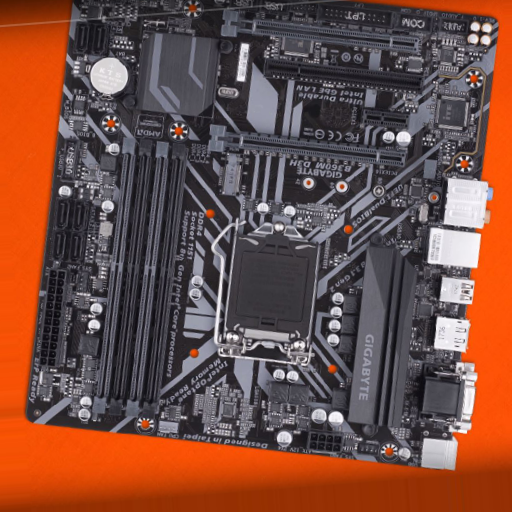CPU: (214, 196, 340, 367)
GPU: (220, 8, 423, 57), (207, 123, 407, 168)
MOTHERBOARD: (24, 6, 498, 469)
RAM: (93, 137, 191, 417)
SSD: (217, 154, 240, 195)
